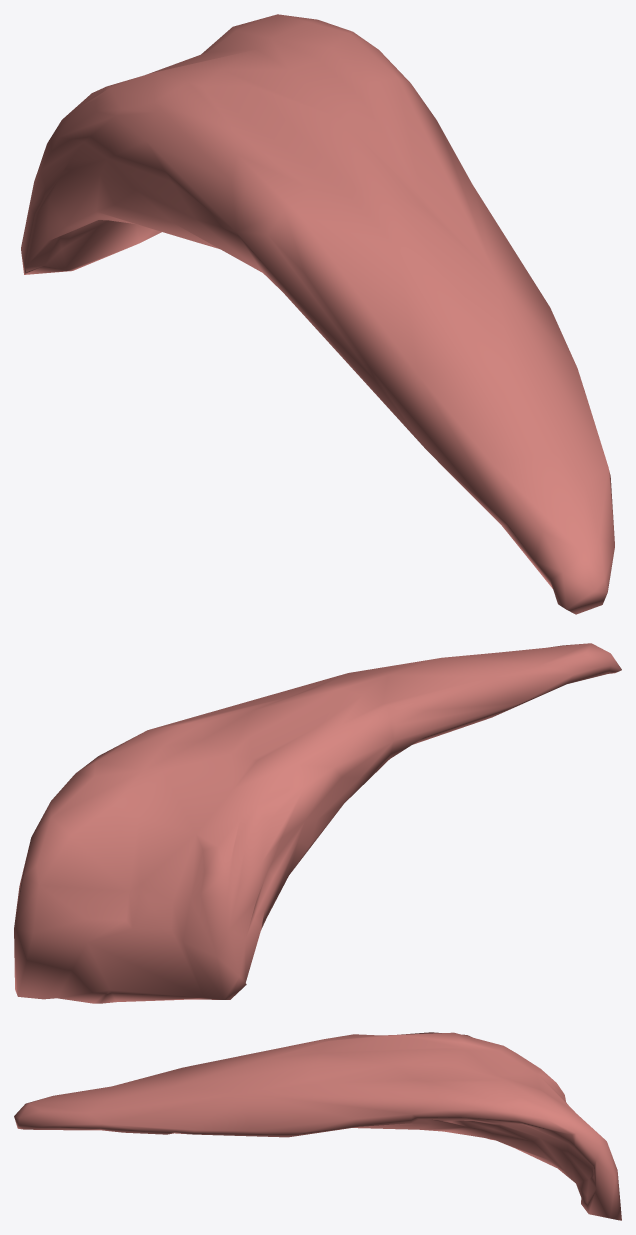
The picture shows the model from 3 angles, top to bottom: view 1: azimuth 30°, elevation 25°; view 2: azimuth 150°, elevation 25°; view 3: azimuth 270°, elevation 25°; orthographic projection. The views are drawn at different scales.
Visible parts, largest first — view 1: ZA_eae9cef1d497c541; view 2: ZA_eae9cef1d497c541; view 3: ZA_eae9cef1d497c541.
Boxes of the visible parts, x1,y1,x2,y2 form: ZA_eae9cef1d497c541: (21,14,614,614); ZA_eae9cef1d497c541: (14,643,621,1003); ZA_eae9cef1d497c541: (14,1032,621,1220).
Size of the model in its own units: 0.0112 by 0.0101 by 0.0401.
